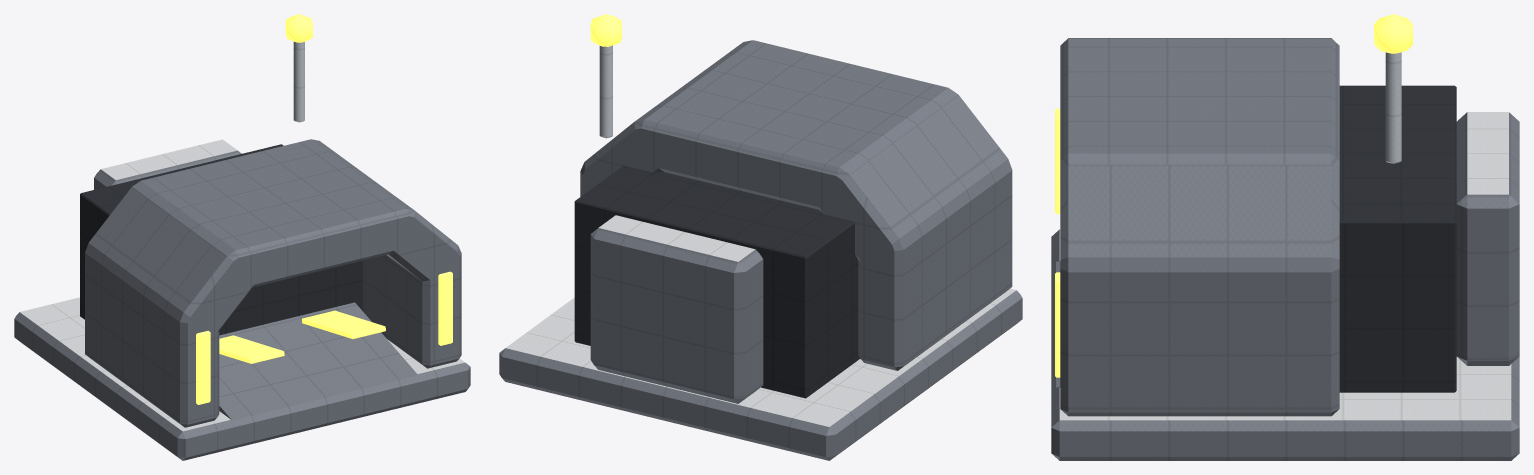
Rendered from R4X_GroundDroneDeployer_LOD1.glb.
3 views of the same model, side by side, from view 1: azimuth 30°, elevation 25°; view 2: azimuth 150°, elevation 25°; view 3: azimuth 270°, elevation 25° (orthographic). The views are drawn at different scales.
Parts seen in each view (by area): view 1: R4X_GroundDroneDeployer_LOD1; view 2: R4X_GroundDroneDeployer_LOD1; view 3: R4X_GroundDroneDeployer_LOD1.
Boxes of the visible parts, box(x1,y1,x2,y2) form: R4X_GroundDroneDeployer_LOD1: box(14, 14, 470, 460); R4X_GroundDroneDeployer_LOD1: box(499, 14, 1022, 460); R4X_GroundDroneDeployer_LOD1: box(1051, 14, 1519, 460).
Bounding box in the file's own units: 0.52 × 0.51 × 0.52.
5 materials, 4 textured.
